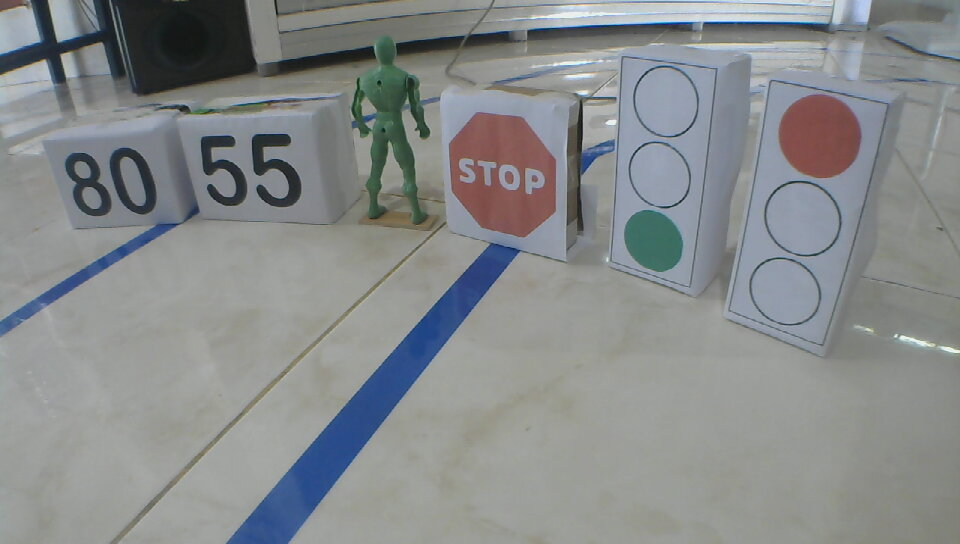Green Light: (625, 62, 701, 274)
Person: (348, 36, 436, 226)
Red Light: (747, 95, 861, 329)
Speed 55: (199, 132, 301, 210)
Speed 80: (63, 146, 157, 218)
Stop: (447, 111, 559, 238)
